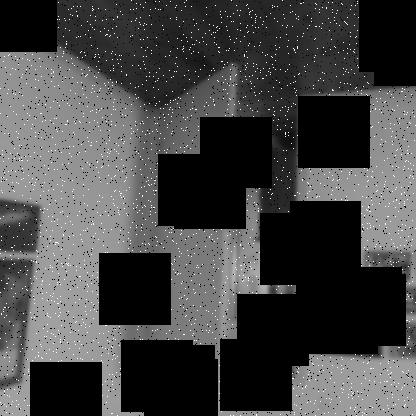Porte: (136, 59, 312, 403)
